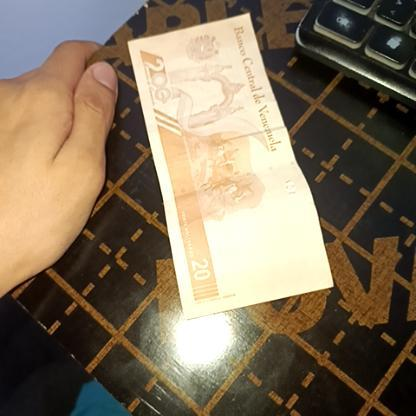twenty-back-vef: (127, 13, 335, 321)
